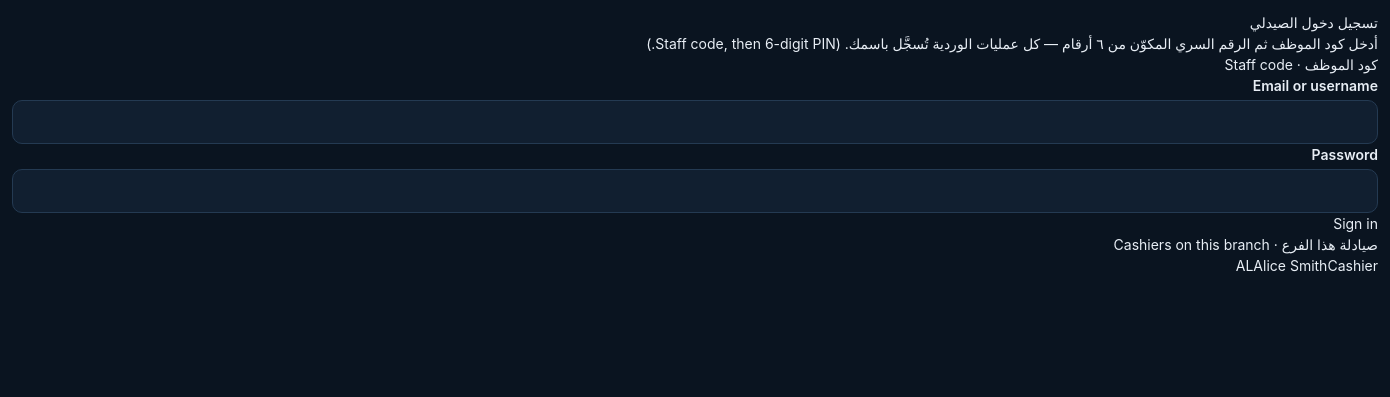
Test case: SignInRoute — cashier sign-in responses › refused response shows the inline cashier error
Click the button with test id "roster-item-0": (1307, 266) [1236,255,1378,276]
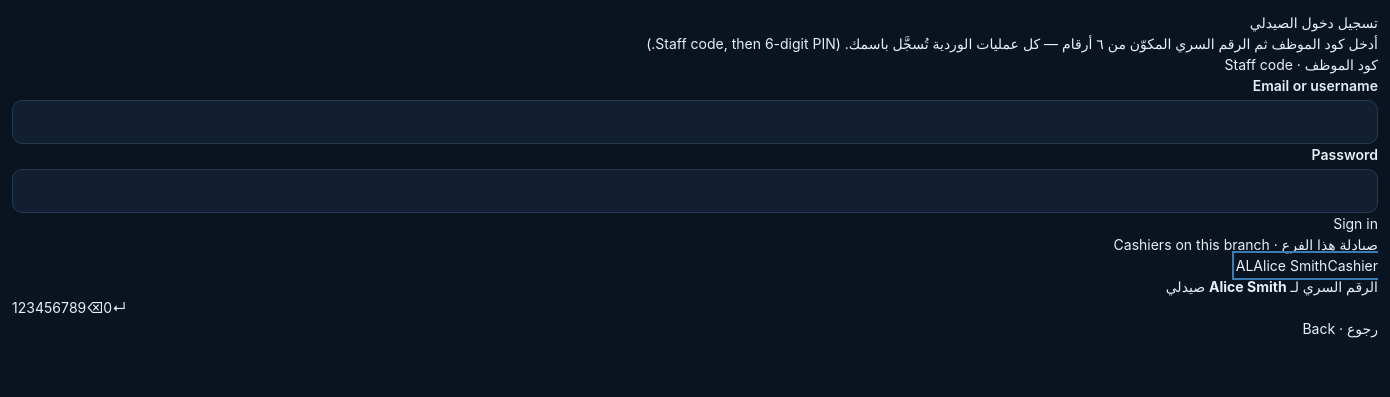
Click the button "1": (15, 308) [12,297,18,318]
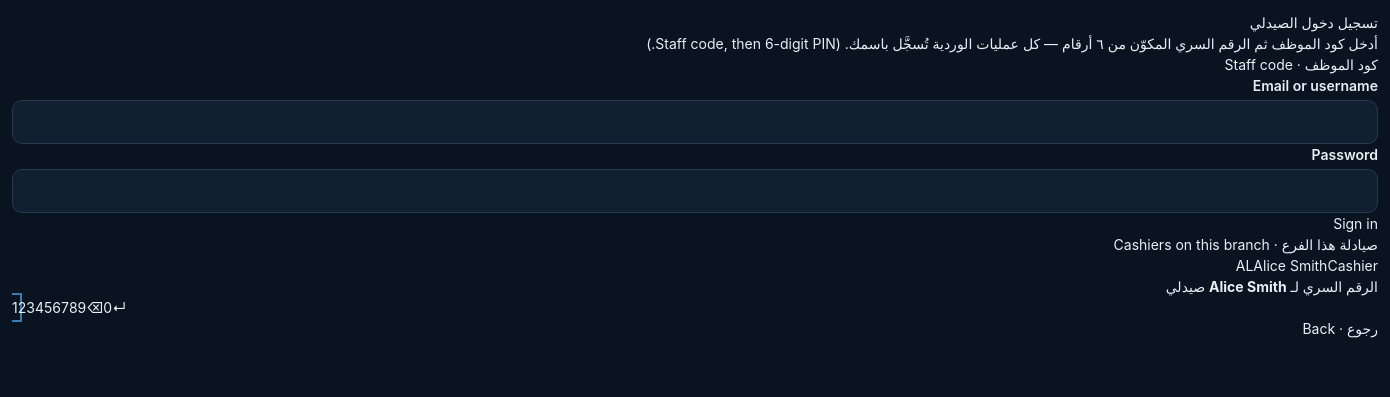
Click the button "2": (22, 308) [18,297,26,318]
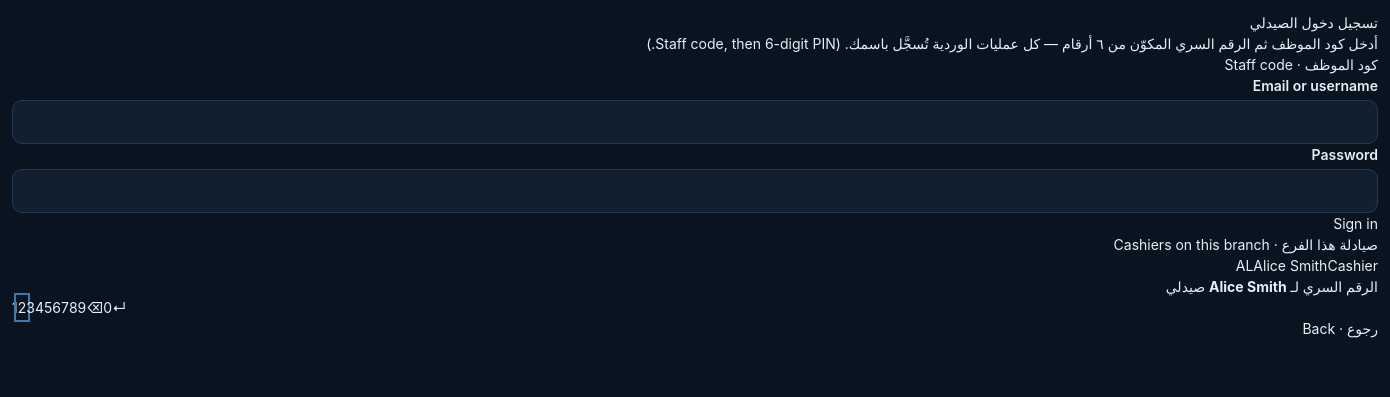
Click the button "3": (31, 308) [26,297,35,318]
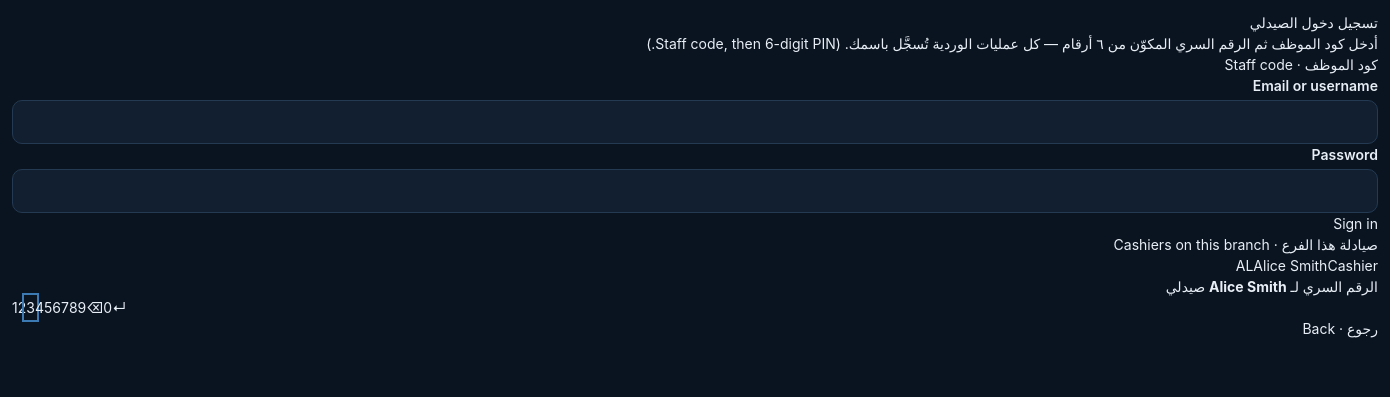
Click the button "4": (39, 308) [35,297,44,318]
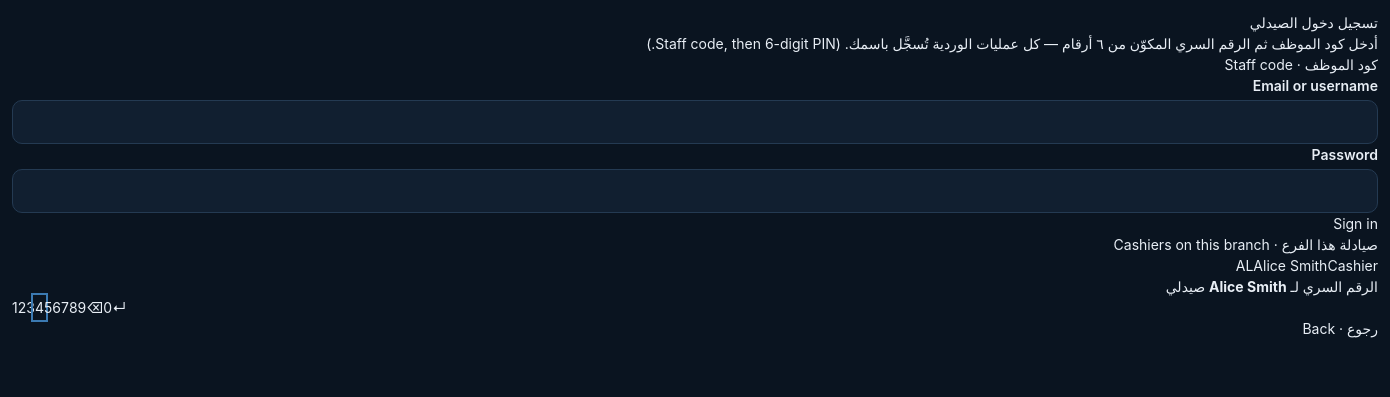
Click the button with test id "pin-pad-enter": (119, 308) [112,297,126,318]
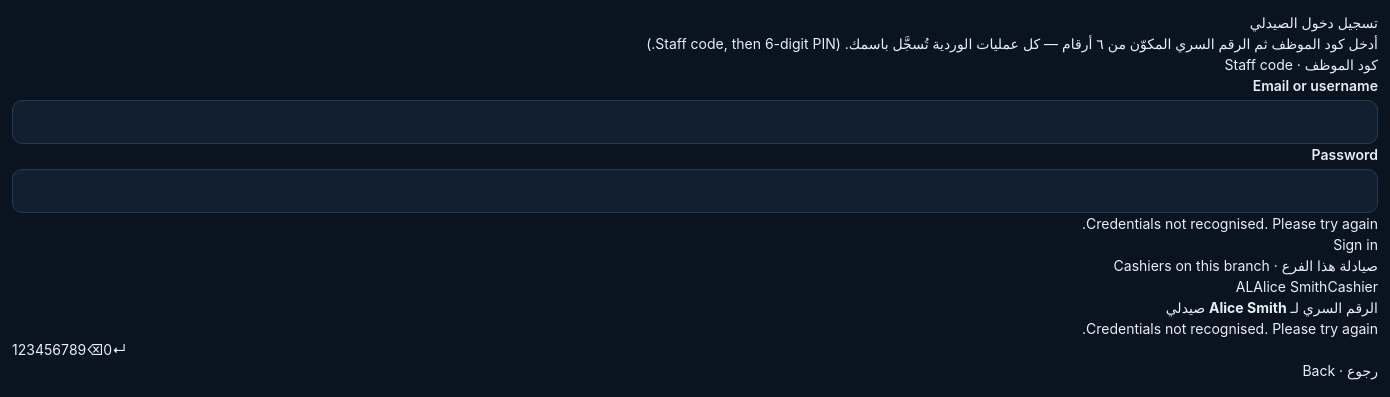
Check: the message with test id "cashier-sign-in-error" is shown, box [1082,320,1378,337]
